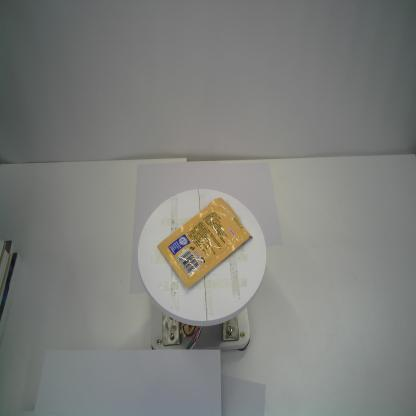Seasoner: (157, 197, 253, 288)
